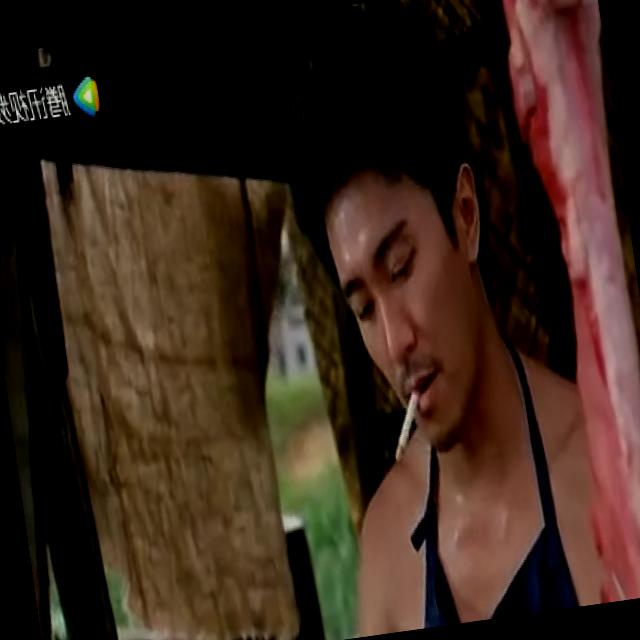smoke: (383, 383, 432, 469)
